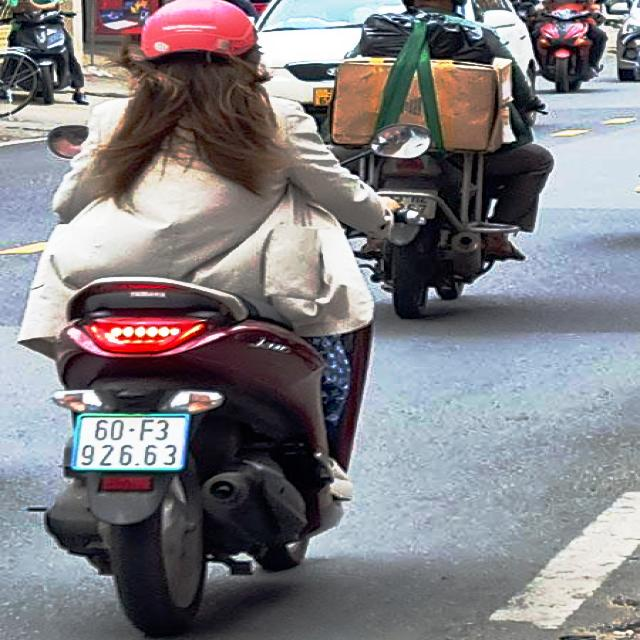license_plate: (71, 416, 187, 473)
